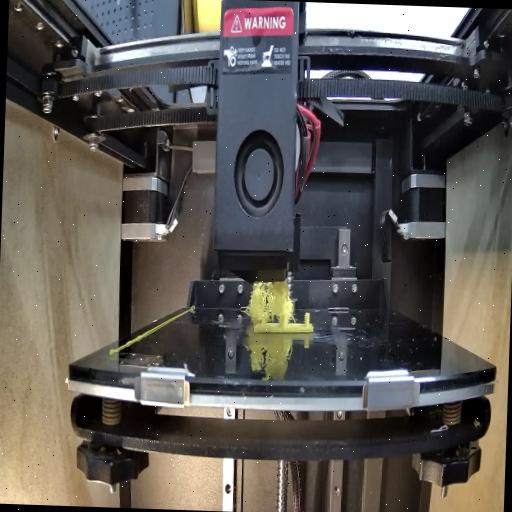spaghetti: (244, 274, 300, 326)
